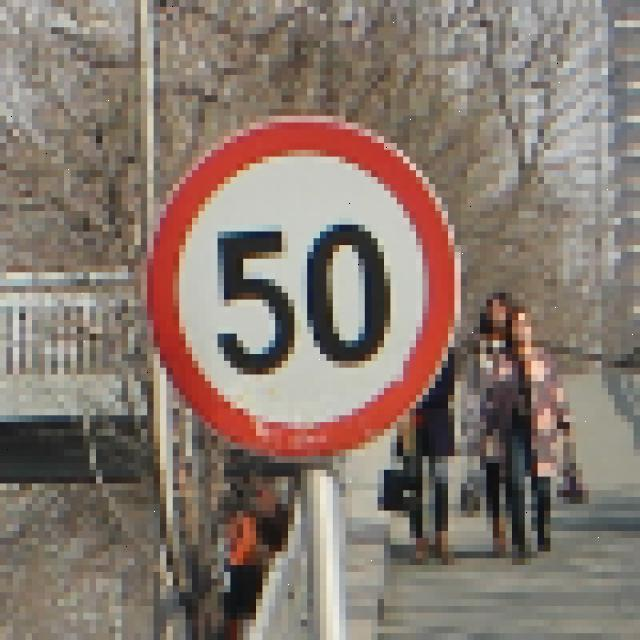speed limit 50: (148, 111, 458, 455)
